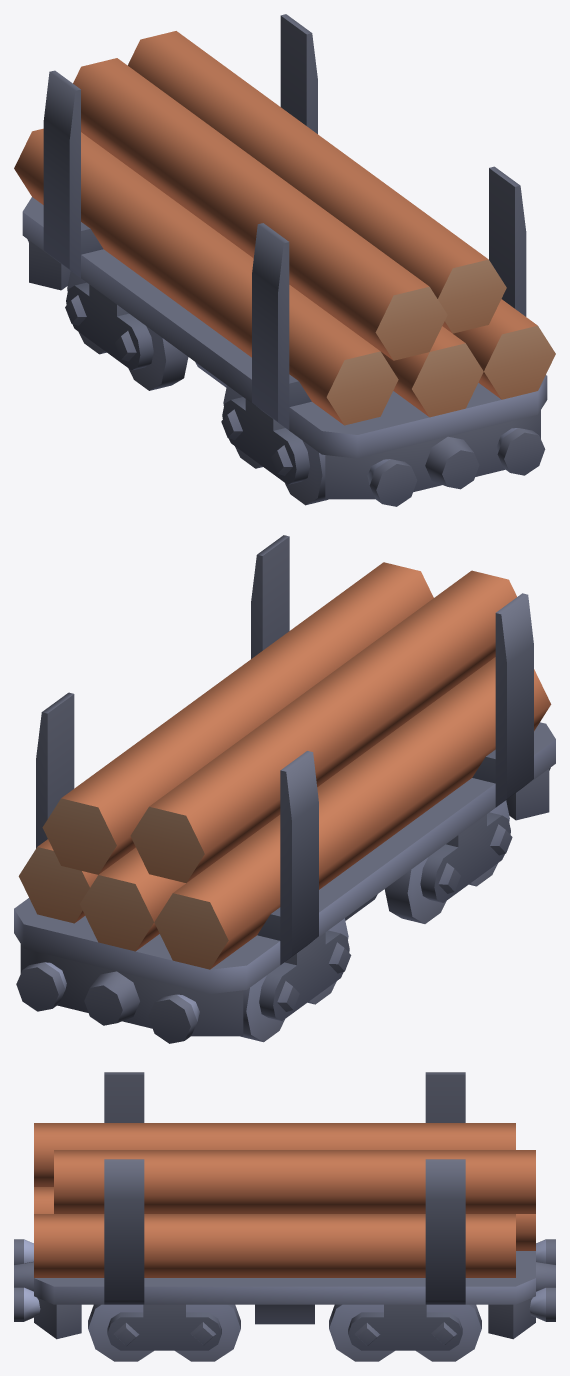
Rendered from train-carriage-lumber.glb.
3 views of the same model, one above another, from view 1: azimuth 30°, elevation 25°; view 2: azimuth 150°, elevation 25°; view 3: azimuth 270°, elevation 25° (orthographic). The views are drawn at different scales.
Parts seen in each view (by area): view 1: cargo, train-carriage-lumber, wheels-back, wheels-front; view 2: cargo, train-carriage-lumber, wheels-front, wheels-back; view 3: cargo, train-carriage-lumber, wheels-front, wheels-back.
Part boxes in pixels (bbox=[...]): cargo: bbox=[14, 31, 555, 425]; train-carriage-lumber: bbox=[22, 14, 547, 506]; wheels-back: bbox=[65, 271, 188, 390]; wheels-front: bbox=[221, 385, 328, 505]; cargo: bbox=[18, 562, 551, 969]; train-carriage-lumber: bbox=[14, 535, 555, 1043]; wheels-front: bbox=[384, 800, 512, 923]; wheels-back: bbox=[240, 918, 351, 1042]; cargo: bbox=[34, 1123, 535, 1277]; train-carriage-lumber: bbox=[14, 1072, 555, 1339]; wheels-front: bbox=[88, 1304, 240, 1361]; wheels-back: bbox=[329, 1304, 481, 1361].
Bounding box in the file's own units: 1.1 × 1.16 × 2.7.
